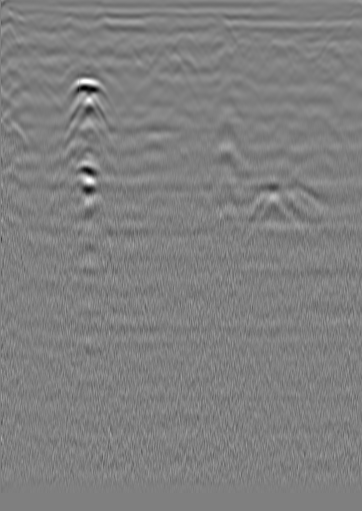가스: (66, 158, 106, 202)
상수: (319, 23, 339, 43)
오수: (36, 29, 56, 49)
우수: (190, 27, 210, 47)
